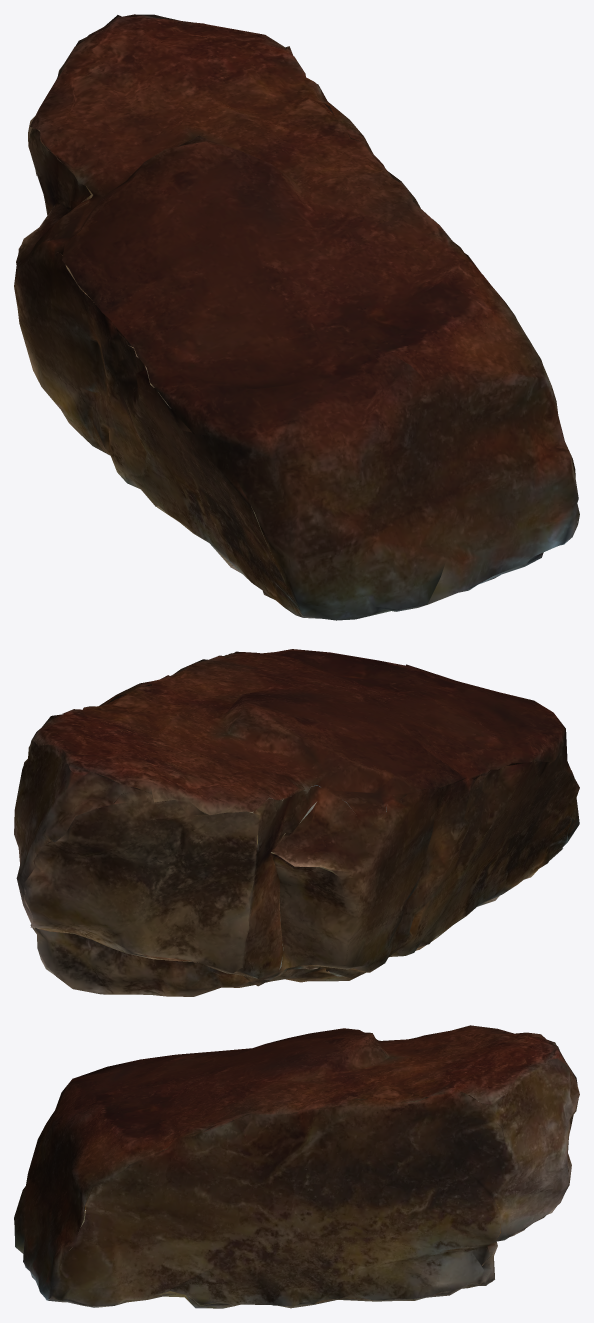
The model's file is rock_07.glb.
The picture shows the model from 3 angles, top to bottom: view 1: azimuth 30°, elevation 25°; view 2: azimuth 150°, elevation 25°; view 3: azimuth 270°, elevation 25°; orthographic projection. The views are drawn at different scales.
Parts seen in each view (by area): view 1: rock_07; view 2: rock_07; view 3: rock_07.
Boxes of the visible parts, x1=… form: rock_07: x1=14, y1=14, x2=579, y2=620; rock_07: x1=14, y1=649, x2=579, y2=996; rock_07: x1=14, y1=1025, x2=579, y2=1308.
Size of the model in its own units: 0.1684 by 0.1429 by 0.3205.
Materials: 1 (1 with a texture image).
